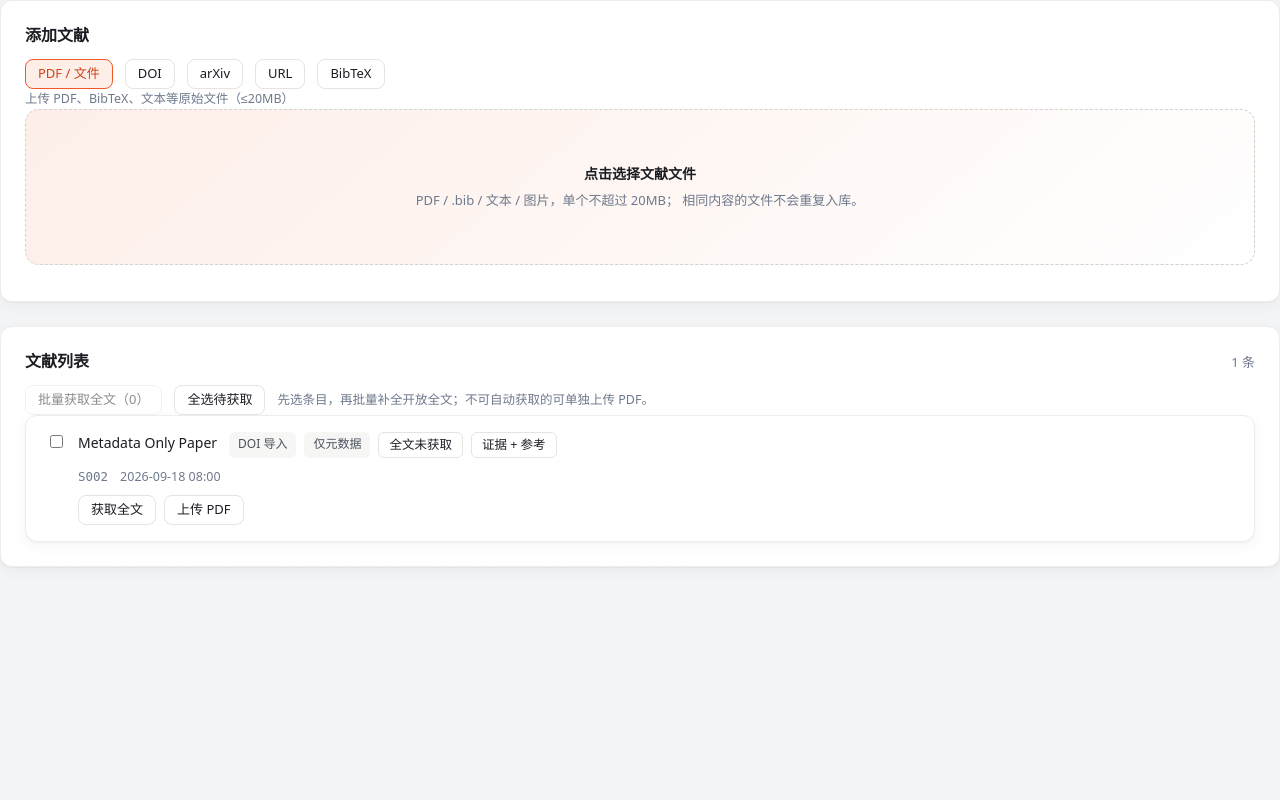
Test: SourcesPanel 批量获取全文（M9.3） › 批量失败 → 错误如实呈现
This screenshot has width=1280, height=800.
expect the heading "文献列表" is shown: met, box [25, 351, 89, 372]
Click the checkbox named "选择 Metadata Only Paper". click: x=56, y=441
box: [50, 435, 63, 448]
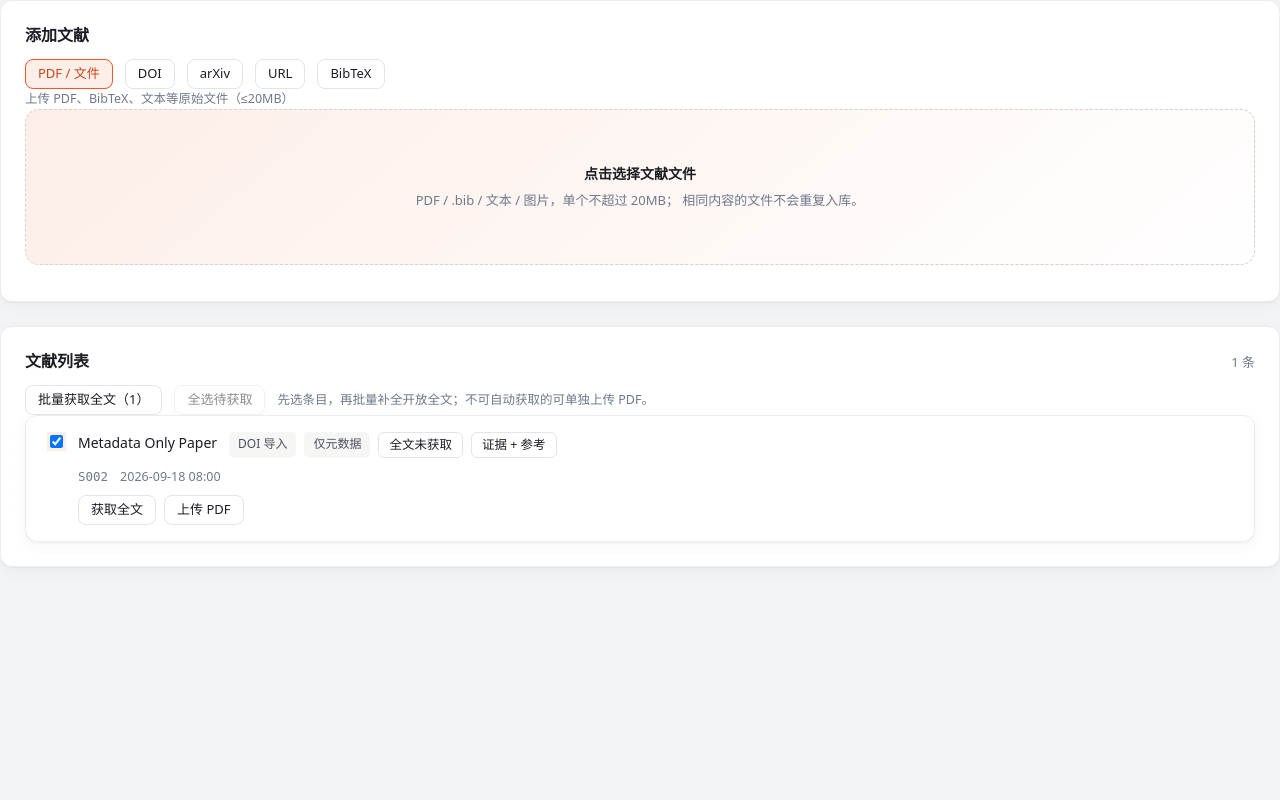
Click the button with test id "batch-resolve-fulltext". click: x=94, y=400
box: [25, 385, 162, 415]
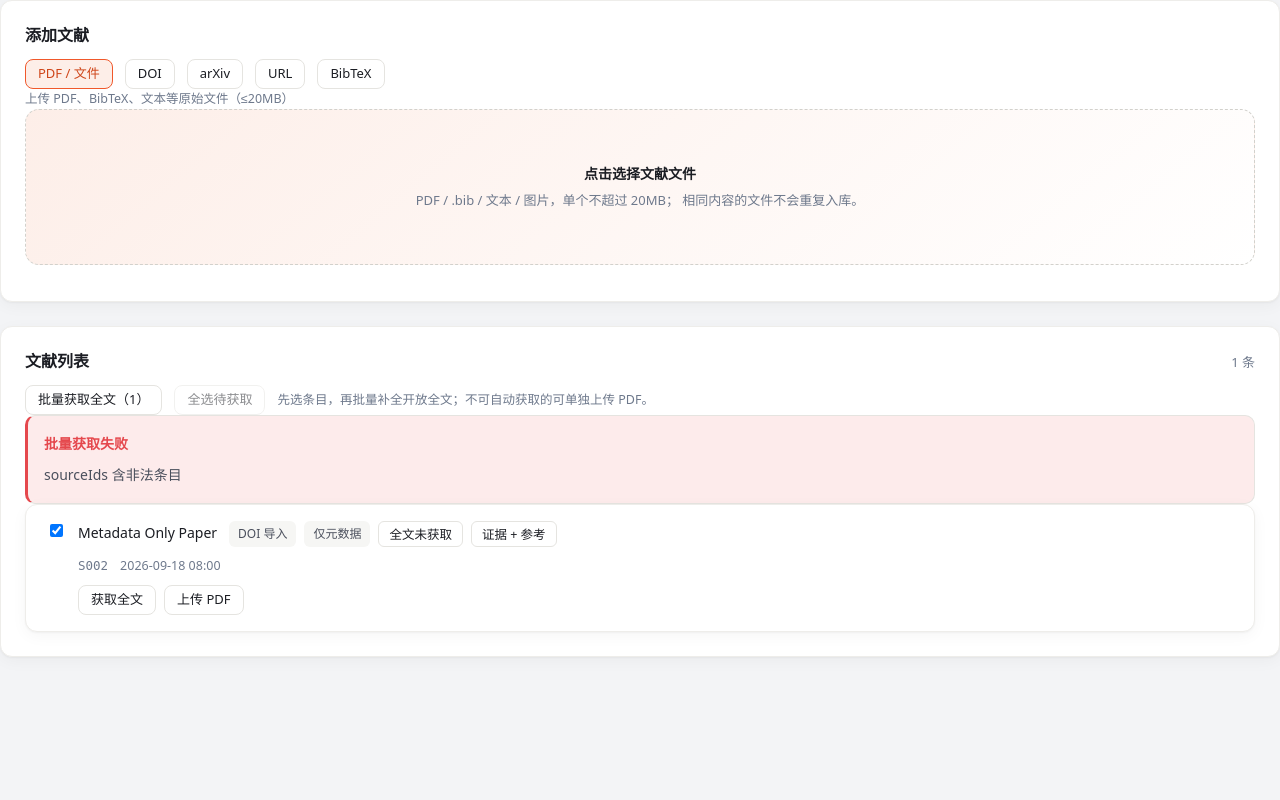
expect the text "批量获取失败" is shown: met, box [44, 432, 128, 456]
expect the text "sourceIds 含非法条目" is shown: met, box [44, 464, 182, 487]
